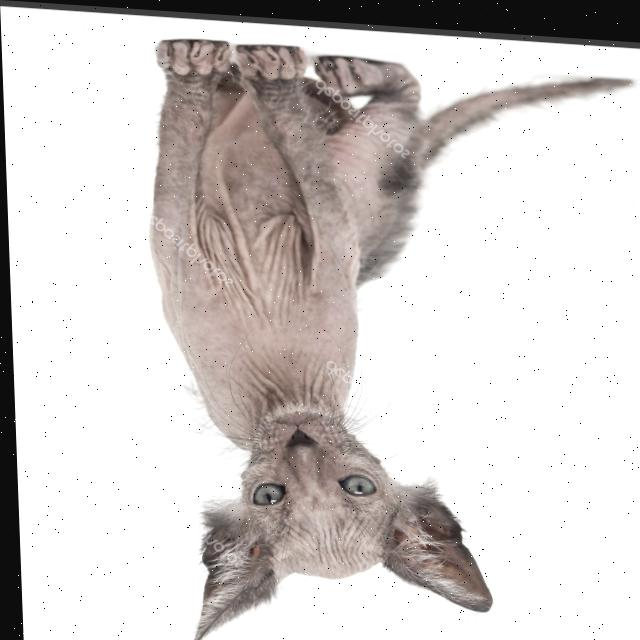Lykoi: (132, 28, 640, 640)
